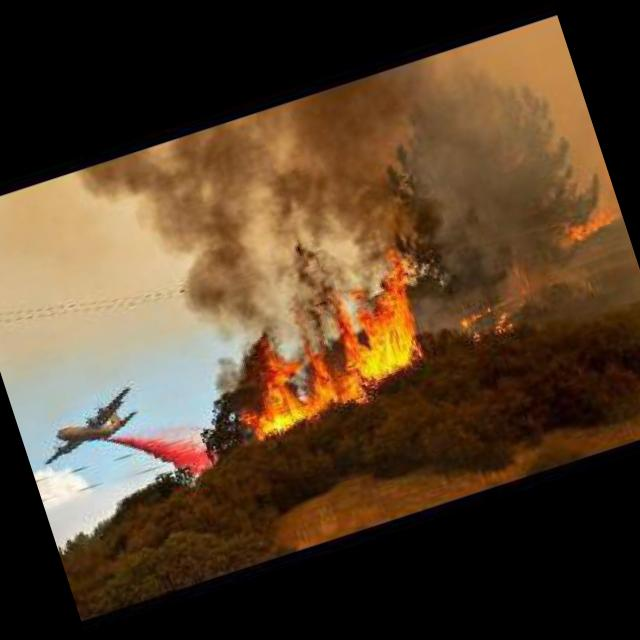fire: (80, 119, 302, 388), (214, 258, 452, 444), (266, 210, 356, 330), (454, 276, 544, 348)
